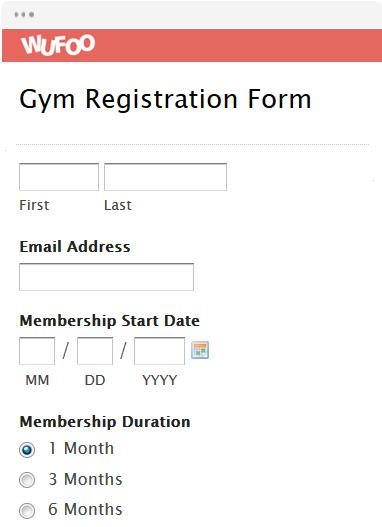radiobutton: (11, 435, 128, 464), (10, 467, 130, 495), (10, 498, 129, 526), (13, 472, 42, 496), (16, 438, 42, 463), (13, 503, 40, 526)
textbox: (15, 259, 205, 297), (12, 332, 188, 370)
